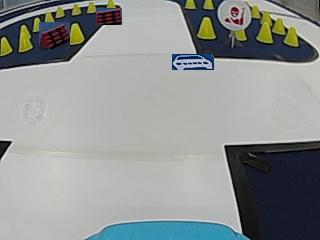evil: (217, 0, 251, 30)
